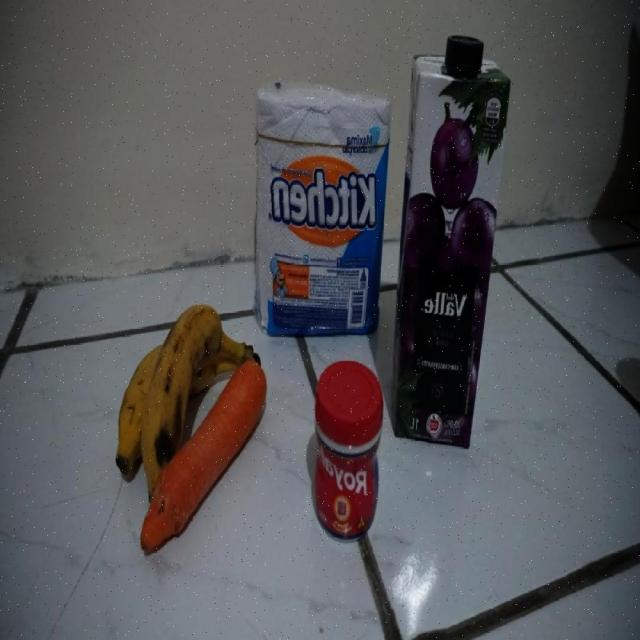Banana: (115, 298, 266, 503)
Carrot: (140, 360, 268, 552)
Napkin: (247, 80, 392, 338)
Yeast: (312, 358, 384, 543)
